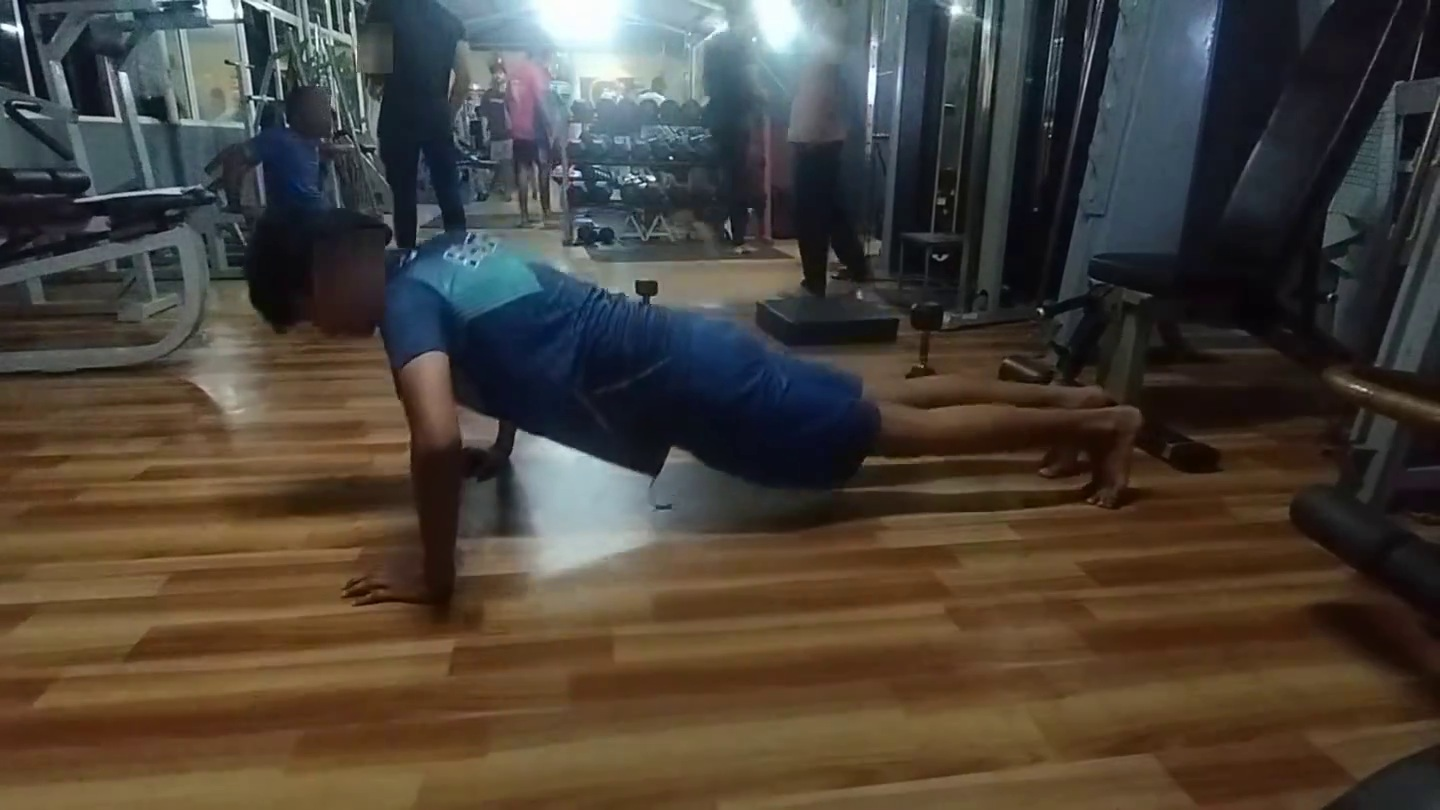push_up_incorrect: (235, 206, 1201, 683)
